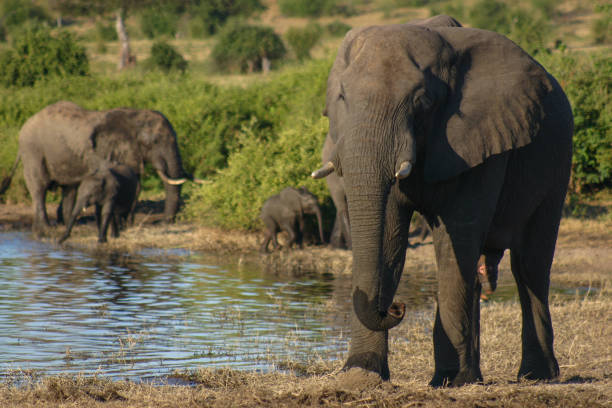africanelephant: (321, 24, 435, 224)
